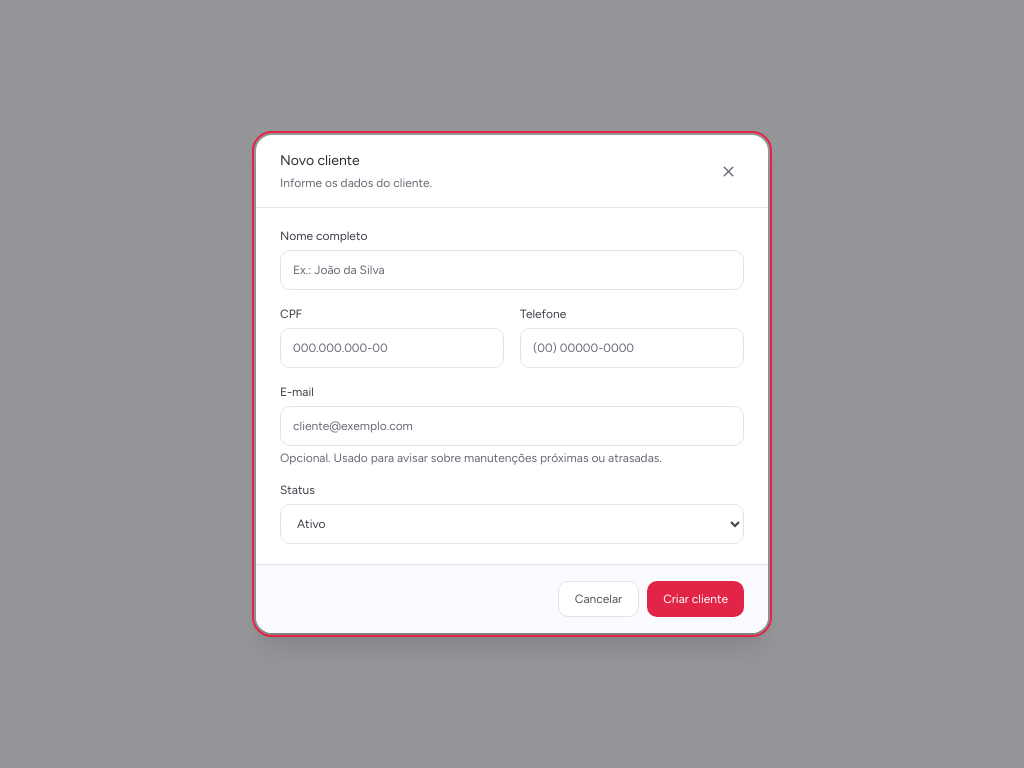
Test: validação por campo nos modais › cliente: CPF incompleto mostra o erro no campo, marca como inválido e foca nele
This screenshot has width=1024, height=768.
In the field labelled "Nome completo": {"x": 512, "y": 270} [280, 250, 744, 290], type "Maria Souza"
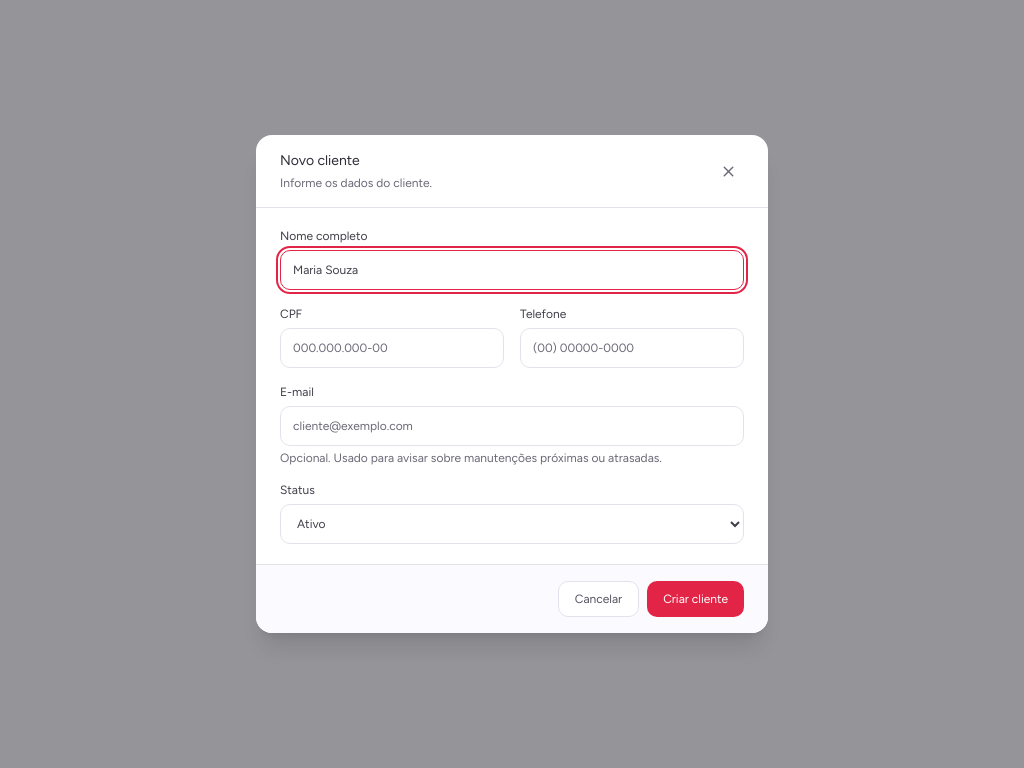
In the field labelled "CPF": {"x": 392, "y": 348} [280, 328, 504, 368], type "123"
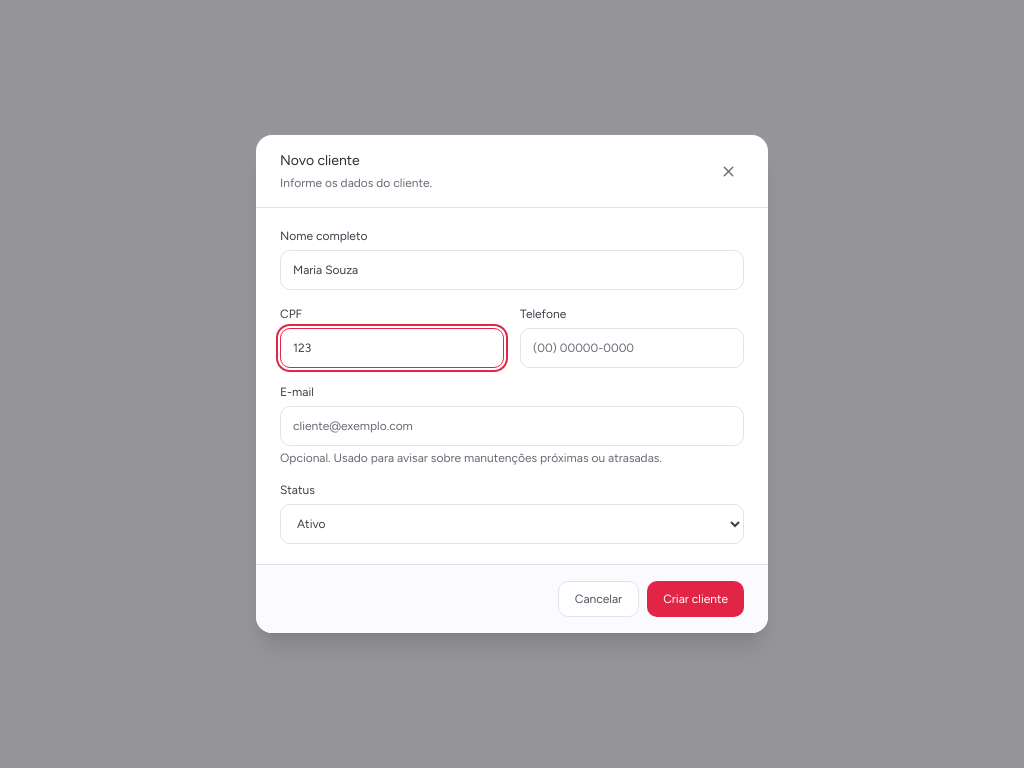
In the field labelled "Telefone": {"x": 632, "y": 348} [520, 328, 744, 368], type "(51) 99999-0000"
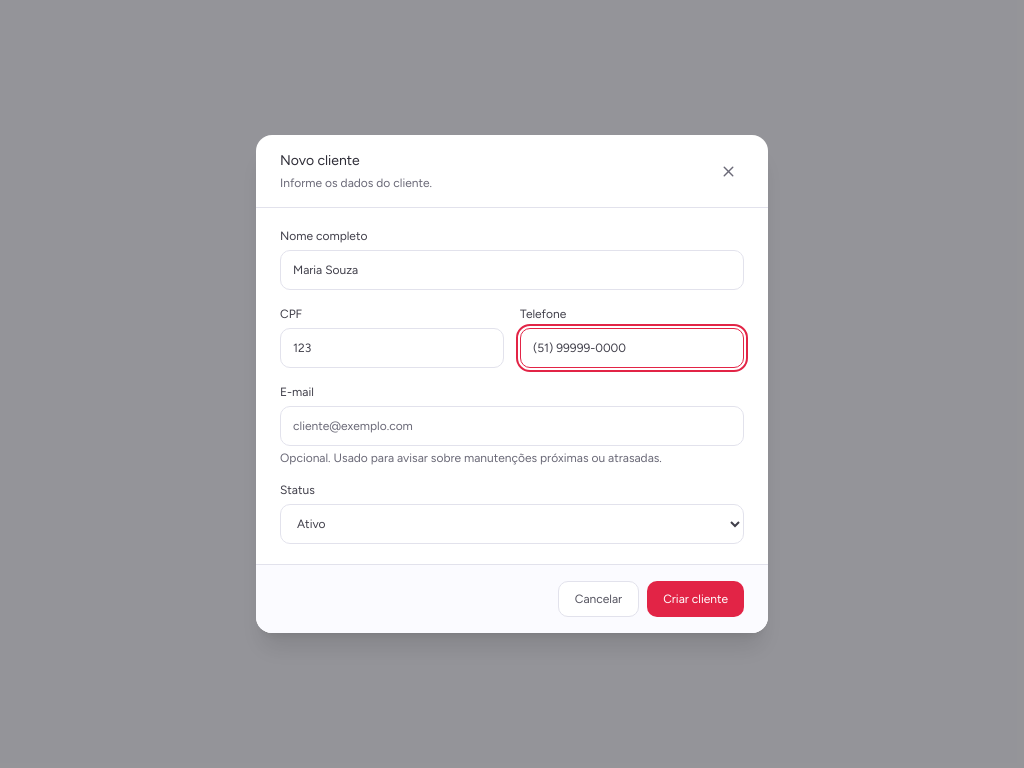
Click the button "Criar cliente": {"x": 696, "y": 599} [647, 581, 744, 617]
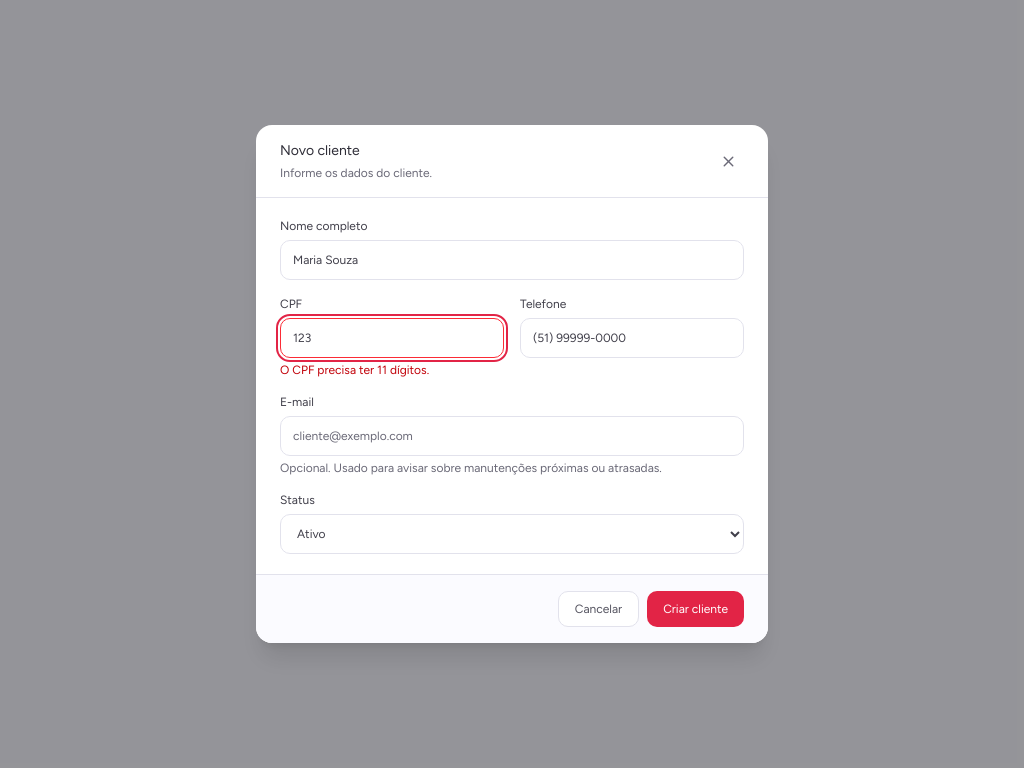
Now the text "O CPF precisa ter 11 dígitos." is shown, box [280, 363, 429, 377]
Voltar a digitar no campo tira o erro dele.
In the field labelled "CPF": {"x": 392, "y": 338} [280, 318, 504, 358], type "4"
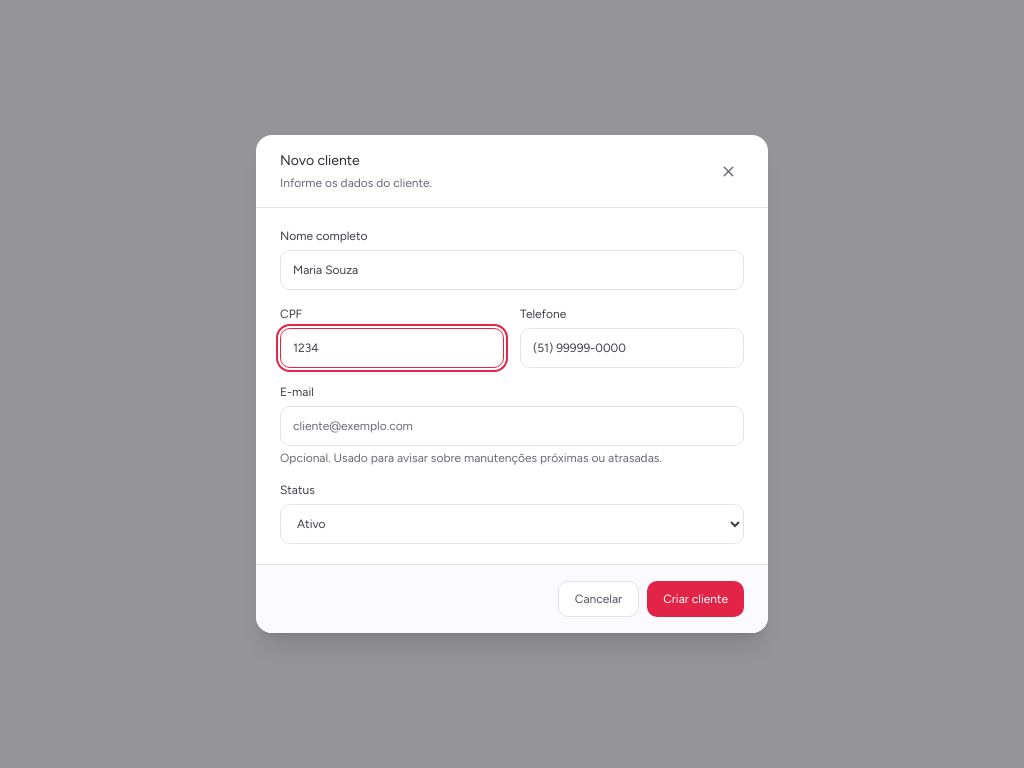
Now the text "O CPF precisa ter 11 dígitos." is gone
